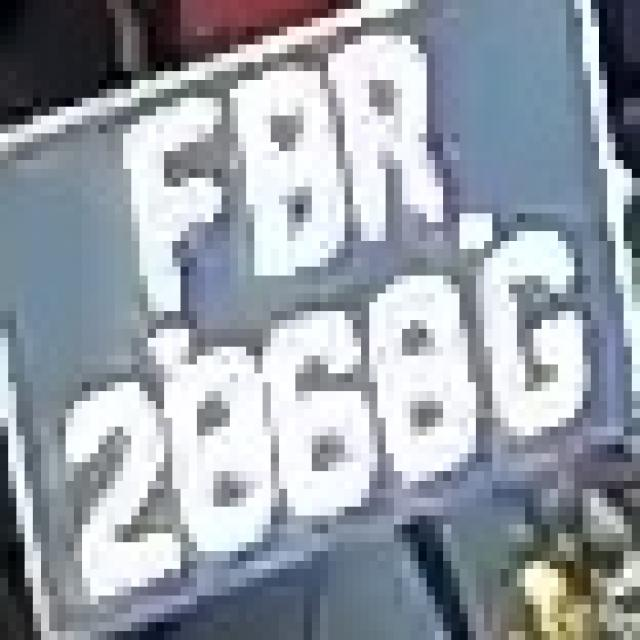2: (41, 356, 181, 596)
6: (271, 284, 402, 516)
8: (156, 338, 303, 569), (344, 249, 468, 498)
B: (213, 62, 345, 267)
F: (99, 62, 246, 302)
G: (451, 214, 591, 454)
R: (320, 9, 451, 258)
